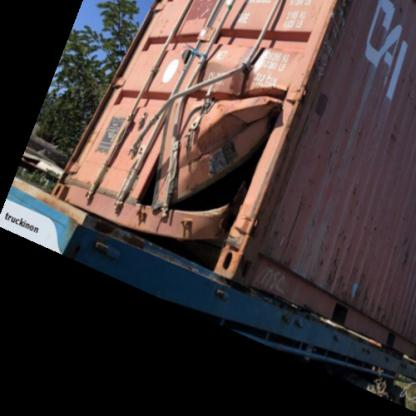Damage: (106, 9, 338, 261)
